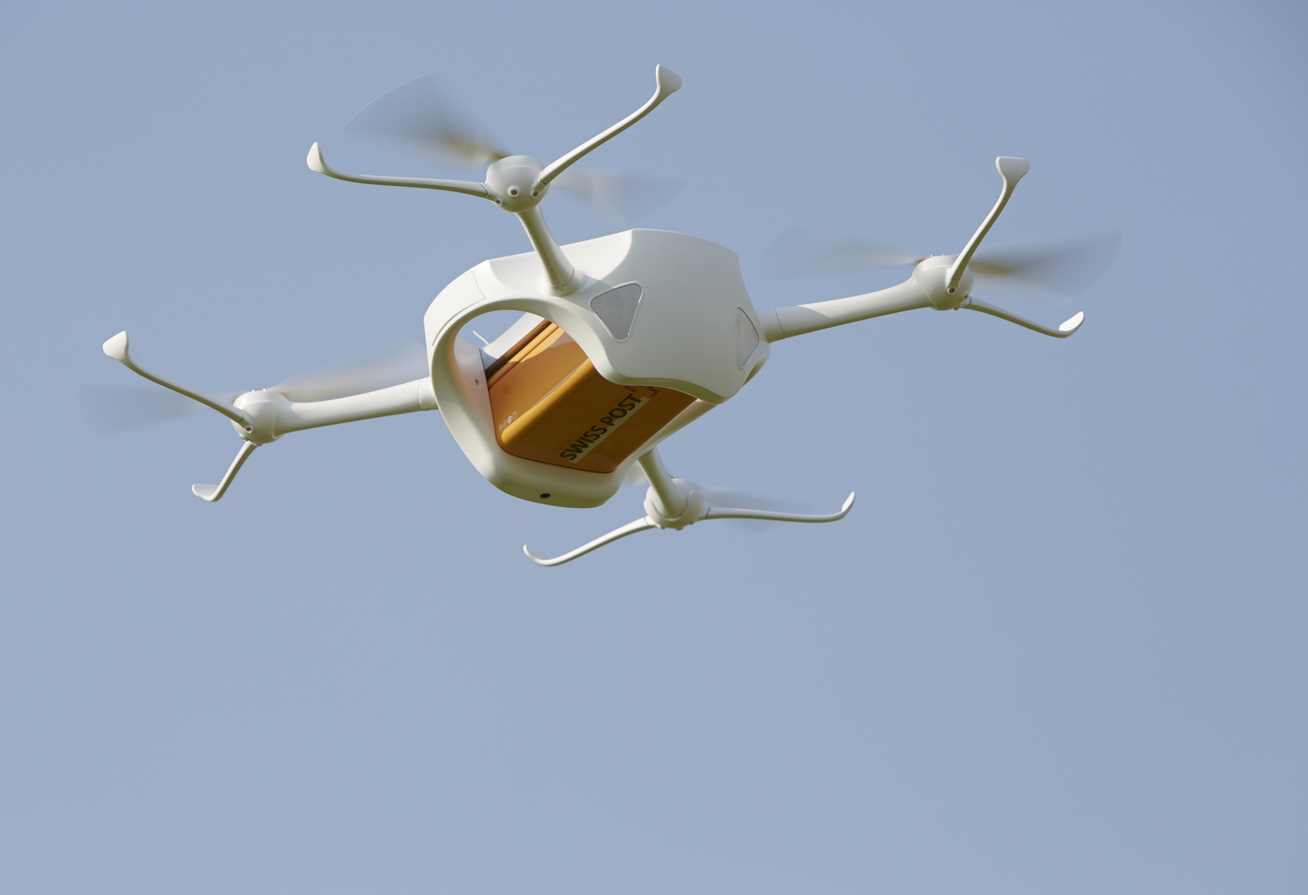UAV: (633, 43, 1308, 895)
